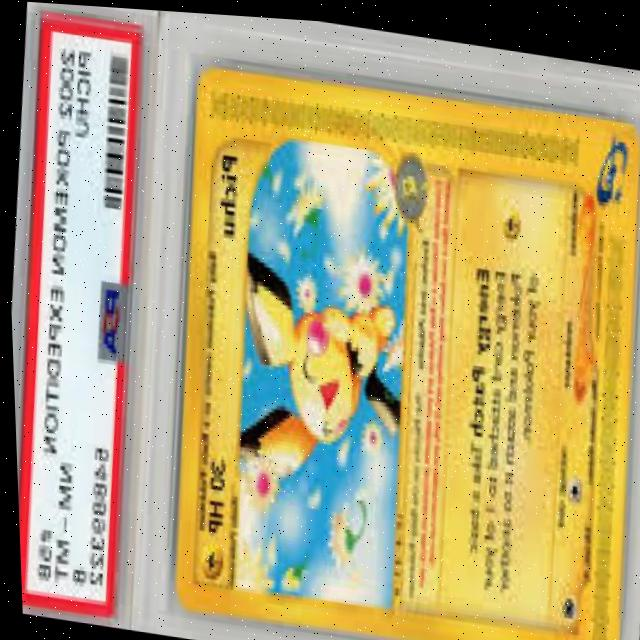pichu: (207, 221, 439, 595)
